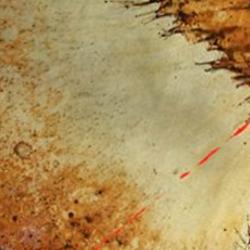rust: (4, 147, 127, 250), (157, 2, 250, 78)
